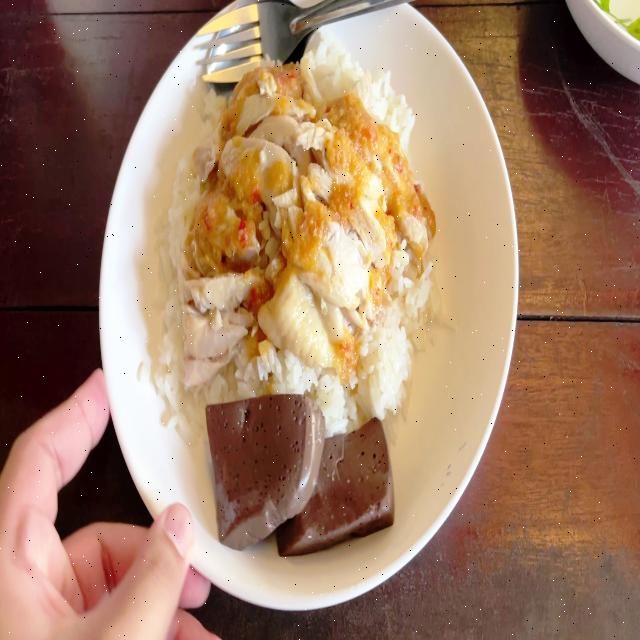boiled_chicken: (207, 73, 384, 383)
boiled_chicken_blood_jelly: (203, 387, 324, 537), (283, 419, 392, 547)
chicken_rice: (148, 36, 440, 565)
